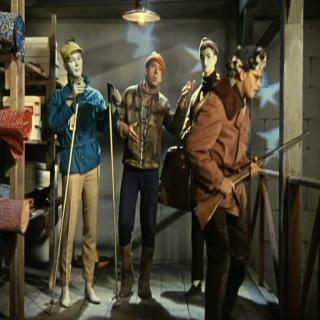gun: (186, 123, 314, 229)
